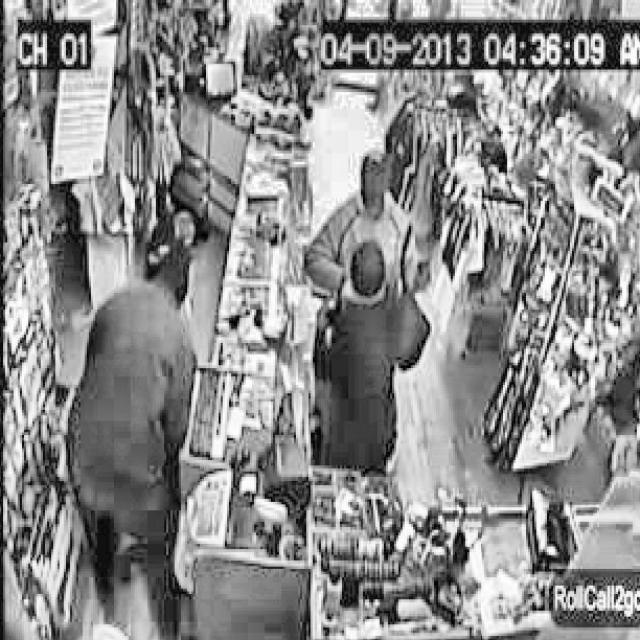robbery: (292, 148, 438, 484)
